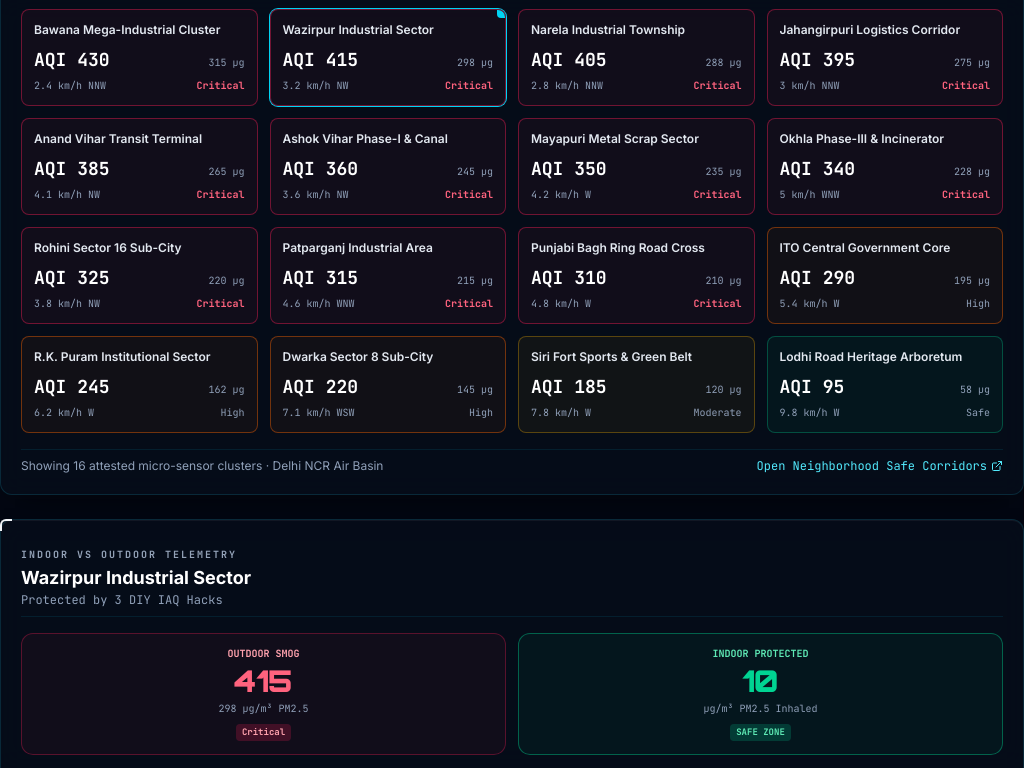
CommandCenter › shows the outdoor AQI per selected ward
(page scrolled)
Click the button "Lodhi Road Heritage Arboretum AQI 95 58 µg 9.8 km/h W Safe".
click(885, 384)  # box [766,336,1003,432]
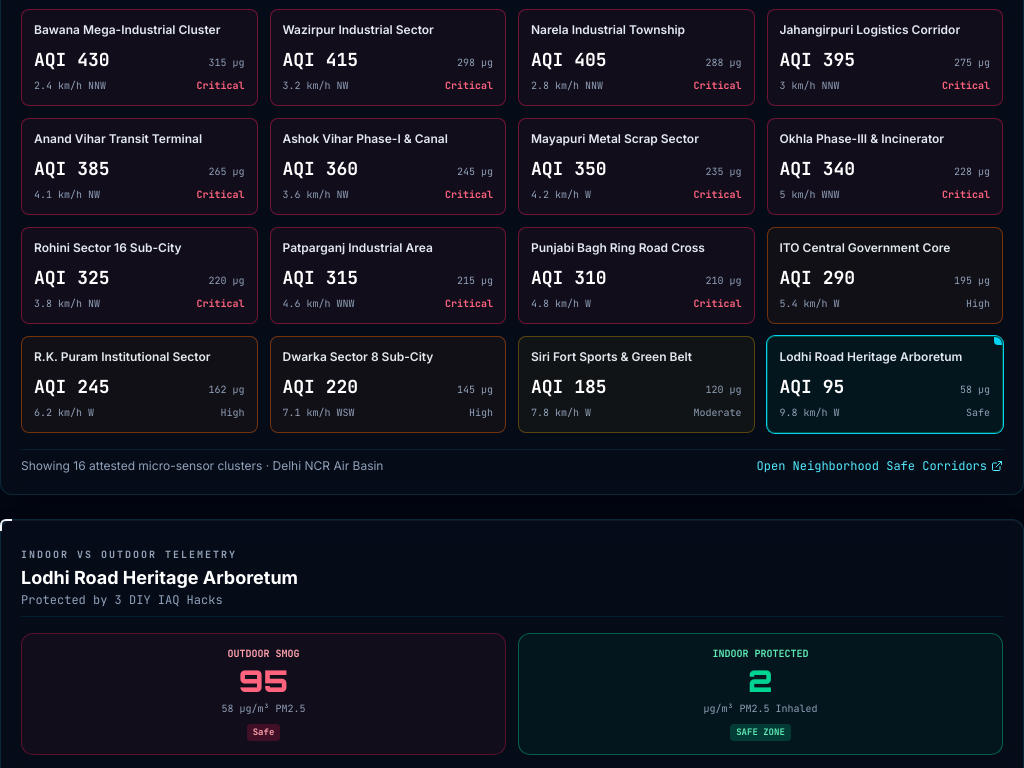
Click the button "Siri Fort Sports & Green Belt".
click(636, 384)  # box [518,336,754,432]
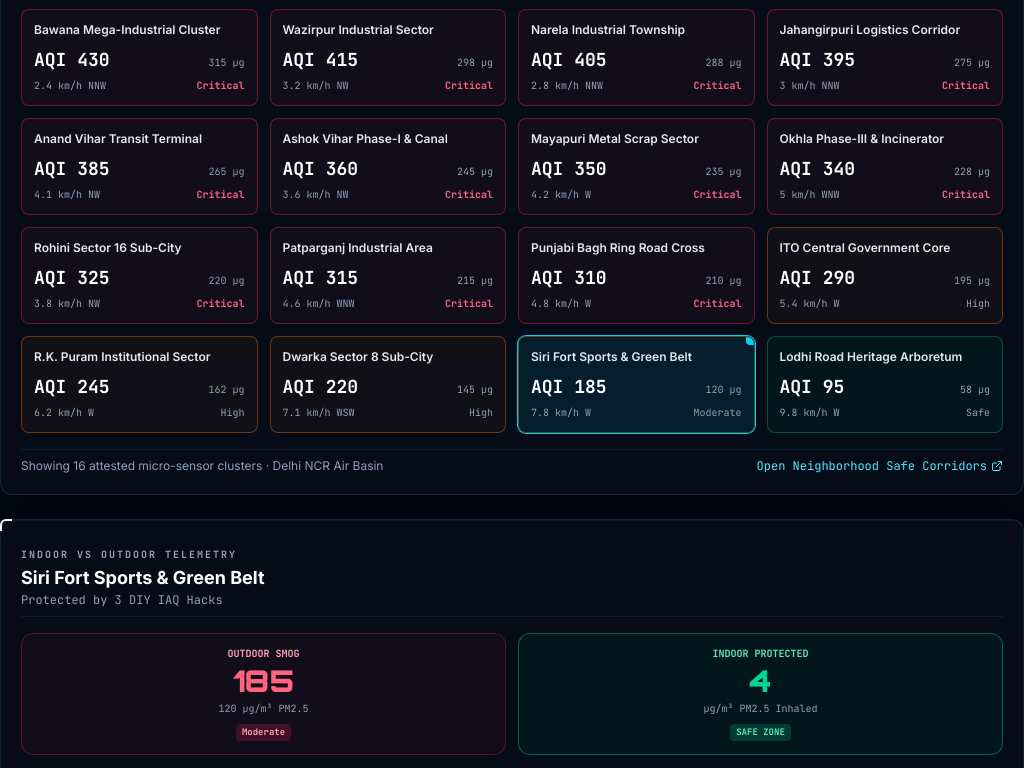
Click the button "R.K. Puram Institutional Sector".
click(139, 384)  # box [21,336,258,432]
(page scrolled)
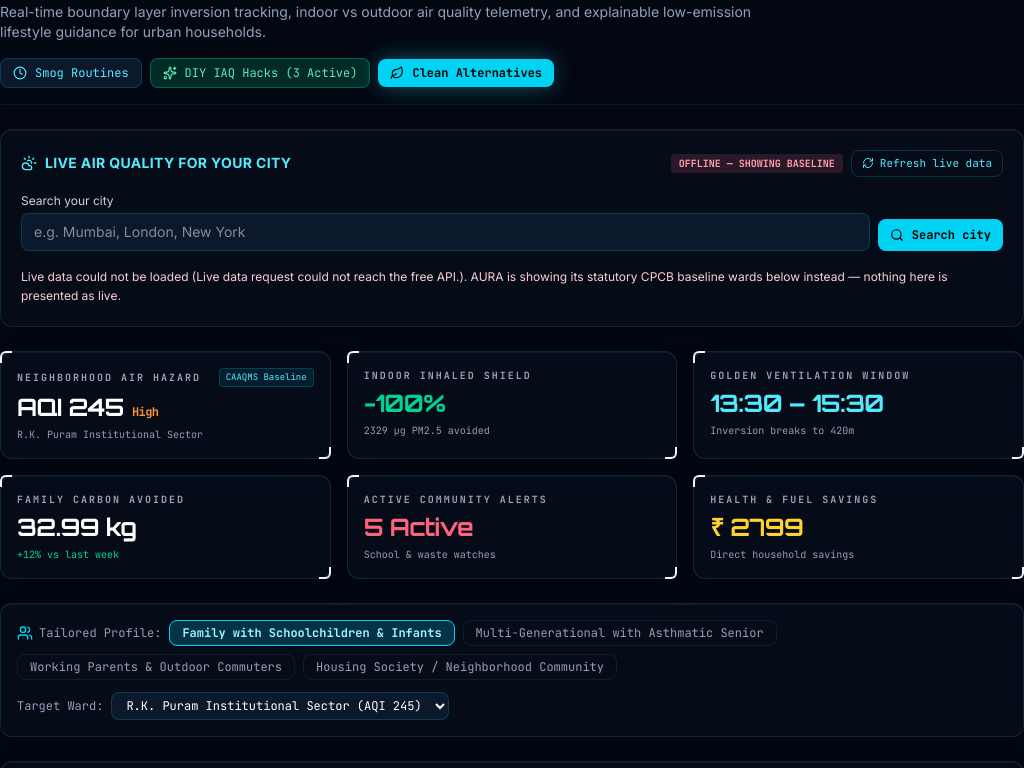
Now the text "AQI 245 High" is shown, box [17,392,158,422]
